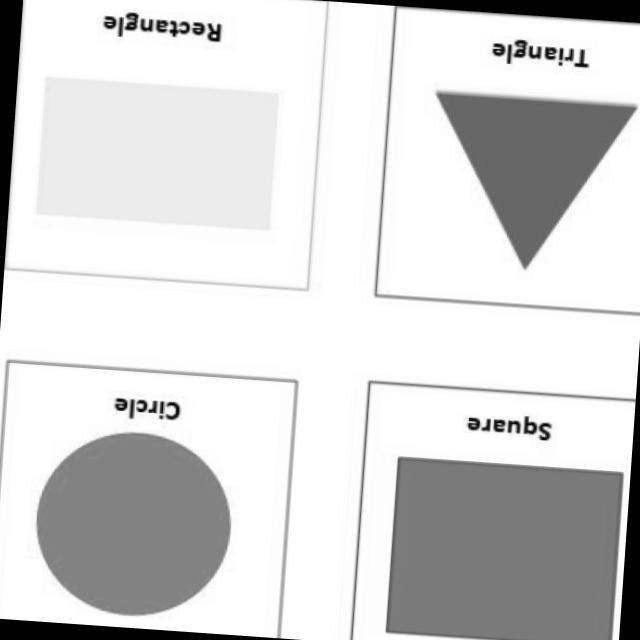circle: (25, 410, 264, 640)
square: (361, 420, 635, 640)
triangle: (415, 55, 640, 279)
